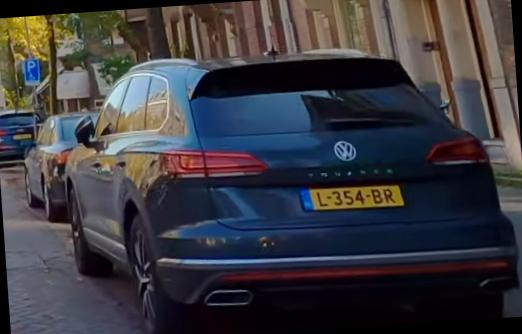license-plate: (297, 183, 409, 212)
